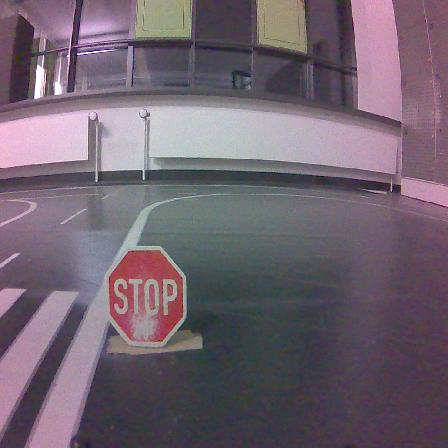STOP: (107, 246, 186, 347)
